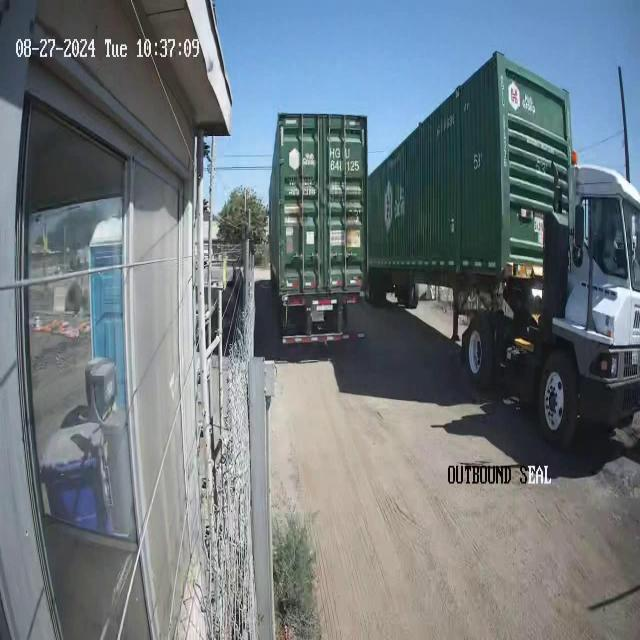TRUCK_CONTAINER: (365, 49, 639, 450), (264, 108, 368, 348)
